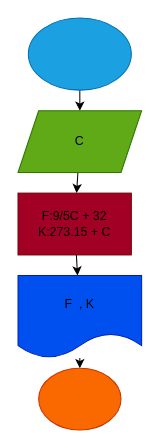
This 160x448 diagram has some shape labels left out. The shapes that lost their labels are listed below. From the top down, each one's centre as x and y in pixels, then its label:
point 79,53: INICIO
point 79,398: FIN
